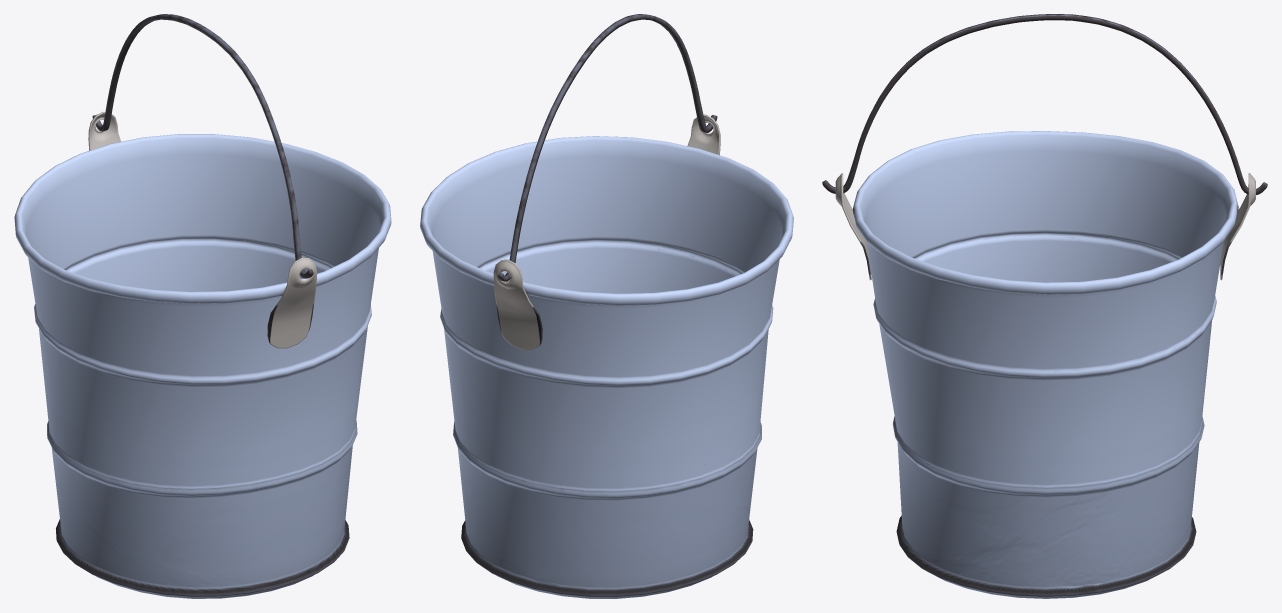
The model's file is bucket.fbx.
3 views of the same model, side by side, from view 1: azimuth 30°, elevation 25°; view 2: azimuth 150°, elevation 25°; view 3: azimuth 270°, elevation 25° (orthographic). The views are drawn at different scales.
Parts seen in each view (by area): view 1: bucket, piece02, handle; view 2: bucket, piece02, handle; view 3: bucket, handle, piece02.
Boxes of the visible parts, x1,y1,x2,y2 form: bucket: (14,134,391,598); piece02: (88,112,316,348); handle: (92,14,313,278); bucket: (420,136,793,598); piece02: (493,114,720,349); handle: (497,14,717,281); bucket: (852,131,1238,598); handle: (822,14,1267,194); piece02: (835,173,1255,280).
Size of the model in its own units: 208 by 313 by 241.
